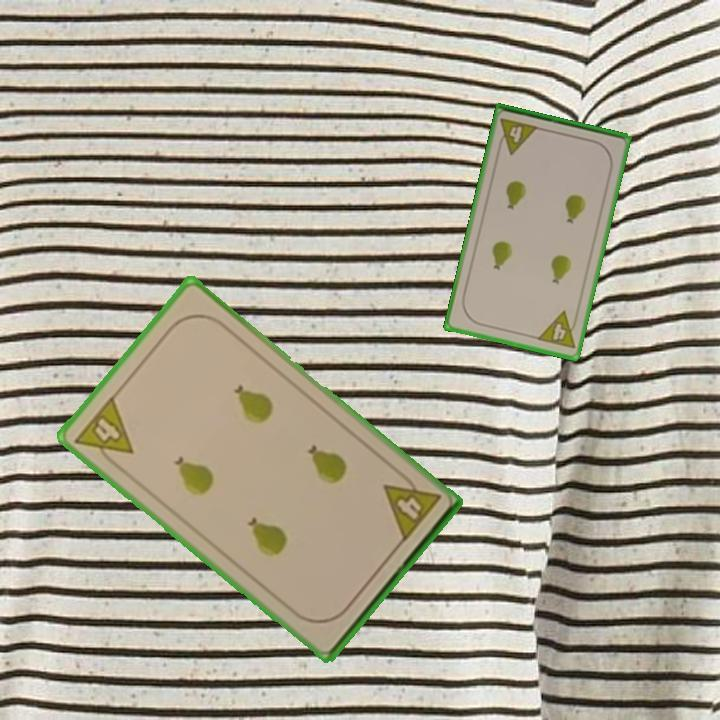4p: (70, 392, 136, 473), (379, 467, 443, 545), (533, 308, 581, 352), (494, 115, 541, 157)
